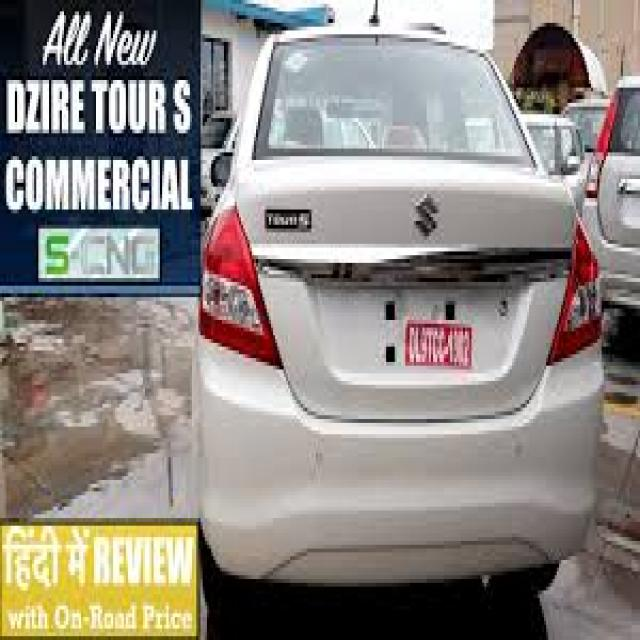car: (188, 12, 608, 590)
